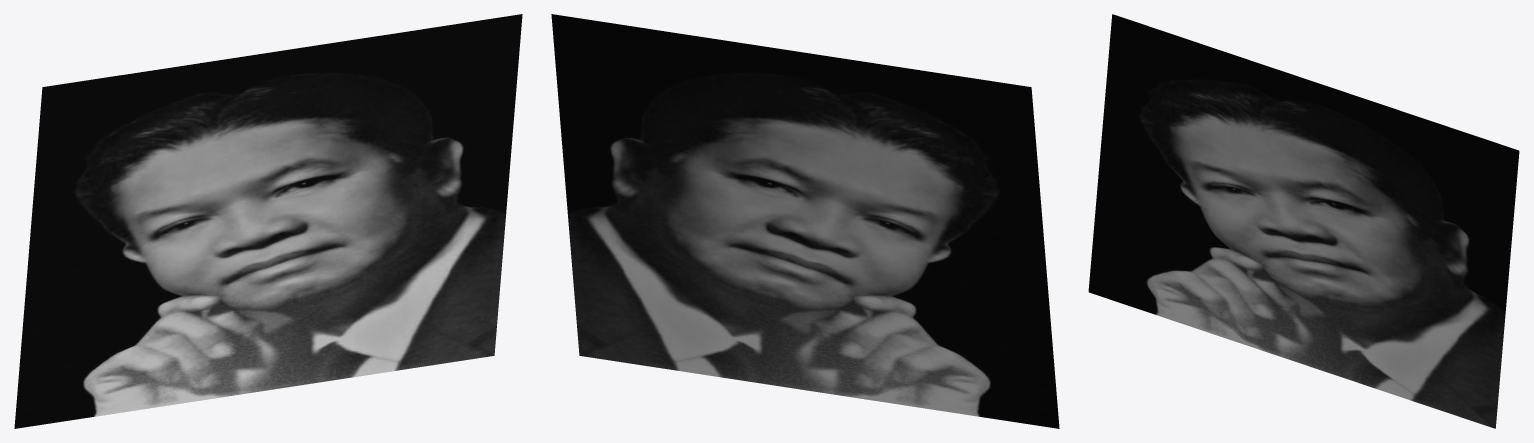
Rendered from JosePLingad.glb.
3 renders of one model, left to right at view 1: azimuth 30°, elevation 25°; view 2: azimuth 150°, elevation 25°; view 3: azimuth 330°, elevation 25°, orthographic. The views are drawn at different scales.
Parts seen in each view (by area): view 1: Plane; view 2: Plane; view 3: Plane.
Part boxes in pixels (x1,y1,x2,y2): Plane: (14, 14, 522, 428); Plane: (551, 14, 1059, 428); Plane: (1088, 14, 1519, 428).
Bounding box in the file's own units: 2.53 × 1.8 × 1.95e-08.
Materials: 1 (1 with a texture image).
